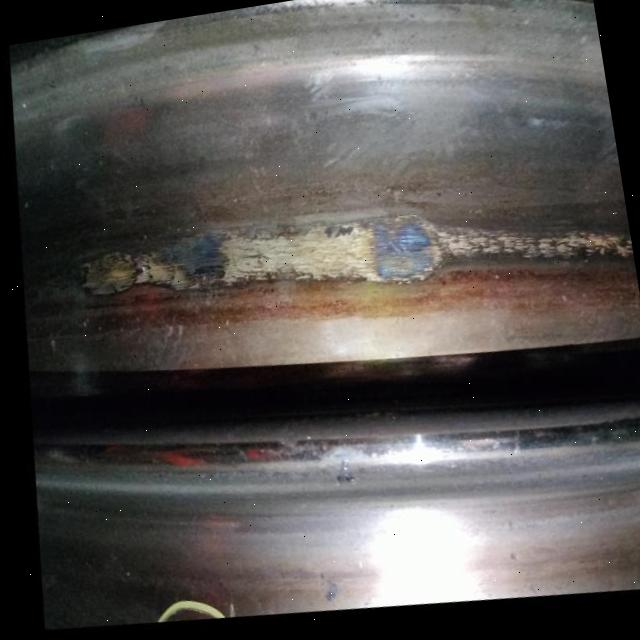Rollerpile: (71, 163, 638, 362)
